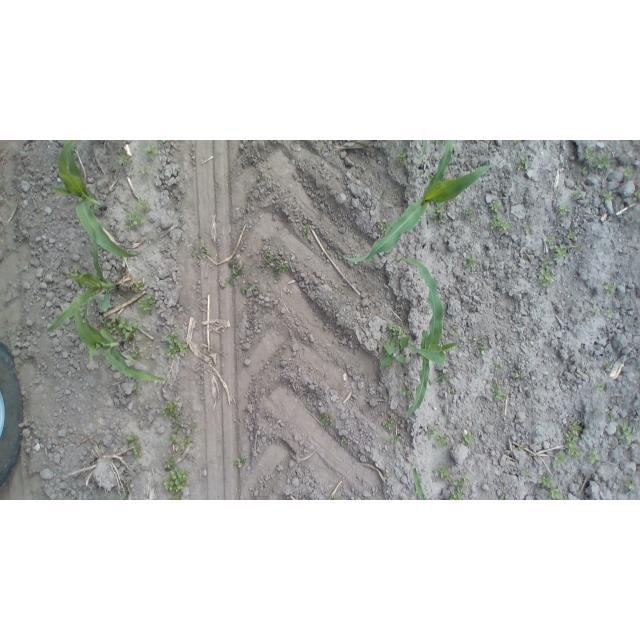Maize: (337, 141, 495, 263), (45, 140, 141, 258), (400, 256, 461, 421), (71, 291, 168, 385), (48, 243, 120, 332), (411, 468, 427, 501), (119, 490, 129, 500)
Weeds: (379, 325, 409, 368), (163, 458, 189, 500), (101, 315, 139, 341), (266, 251, 290, 282), (582, 147, 612, 170), (164, 332, 189, 358), (563, 429, 582, 460), (448, 474, 468, 500), (124, 211, 148, 230), (137, 293, 157, 315), (161, 402, 183, 422), (488, 379, 507, 402), (127, 432, 144, 457), (489, 215, 513, 231), (227, 260, 242, 285), (430, 202, 445, 225), (143, 142, 159, 161), (617, 423, 633, 442), (539, 267, 554, 287), (191, 243, 209, 259), (120, 150, 136, 167), (474, 337, 489, 355), (552, 244, 568, 260), (586, 448, 601, 465), (134, 197, 150, 212), (548, 486, 564, 500), (536, 475, 553, 488), (554, 450, 566, 468), (516, 157, 530, 172), (401, 387, 416, 401), (170, 427, 181, 445), (434, 435, 448, 449), (570, 420, 582, 436), (436, 373, 452, 385), (181, 436, 194, 450), (440, 467, 453, 481), (320, 414, 335, 426), (602, 191, 614, 204), (237, 455, 248, 469), (396, 151, 408, 163), (241, 285, 257, 294), (605, 282, 616, 295), (558, 205, 572, 215), (379, 221, 391, 232), (384, 420, 395, 432), (466, 256, 477, 268), (624, 167, 635, 178), (521, 223, 532, 234), (464, 430, 472, 445), (490, 203, 502, 213), (141, 168, 154, 177), (625, 481, 635, 492), (428, 428, 437, 440), (303, 223, 313, 233), (134, 282, 144, 292), (449, 325, 459, 335), (546, 236, 556, 245), (595, 384, 605, 392), (593, 410, 600, 421), (542, 257, 549, 268), (608, 413, 616, 422), (571, 191, 581, 198), (427, 172, 434, 182), (134, 346, 141, 356), (391, 435, 398, 445), (522, 468, 530, 476), (606, 310, 614, 318), (513, 372, 521, 380), (464, 208, 472, 216), (500, 493, 509, 500), (340, 439, 349, 446), (568, 232, 577, 239), (603, 363, 611, 370), (572, 245, 580, 252), (592, 308, 600, 315), (634, 190, 640, 199), (332, 494, 341, 500), (582, 168, 589, 175), (519, 444, 526, 451), (496, 365, 501, 372), (451, 388, 457, 393), (514, 140, 521, 144), (434, 140, 439, 145), (136, 382, 139, 389), (161, 141, 167, 144)
